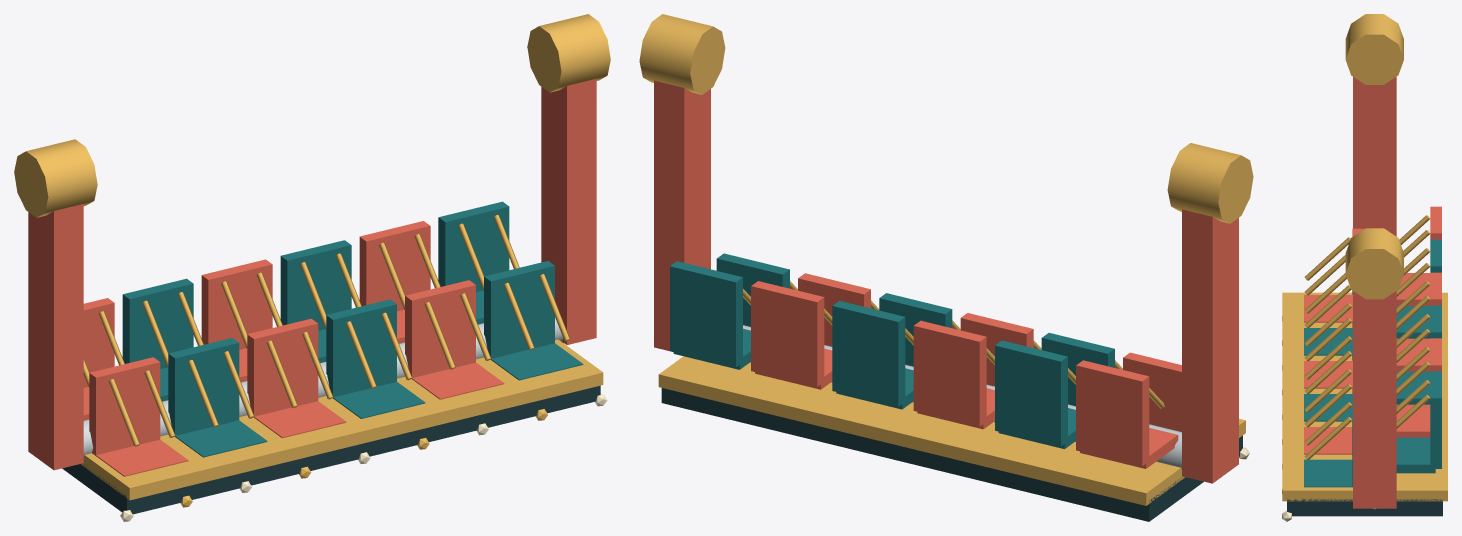
File: ride_topspin_motion.glb
The picture shows the model from 3 angles, left to right: view 1: azimuth 30°, elevation 25°; view 2: azimuth 150°, elevation 25°; view 3: azimuth 270°, elevation 25°; orthographic projection. The views are drawn at different scales.
Visible parts, largest first — view 1: ride_topspin_motion; view 2: ride_topspin_motion; view 3: ride_topspin_motion.
Boxes of the visible parts, left/top/right/bottom form: ride_topspin_motion: left=14, top=14, right=610, bottom=521; ride_topspin_motion: left=639, top=14, right=1253, bottom=521; ride_topspin_motion: left=1282, top=14, right=1447, bottom=521.
Bounding box in the file's own units: 5.7 × 3.29 × 1.7.
